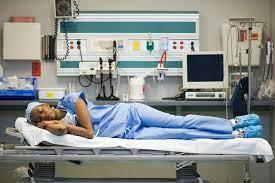sleep: (17, 94, 214, 150)
